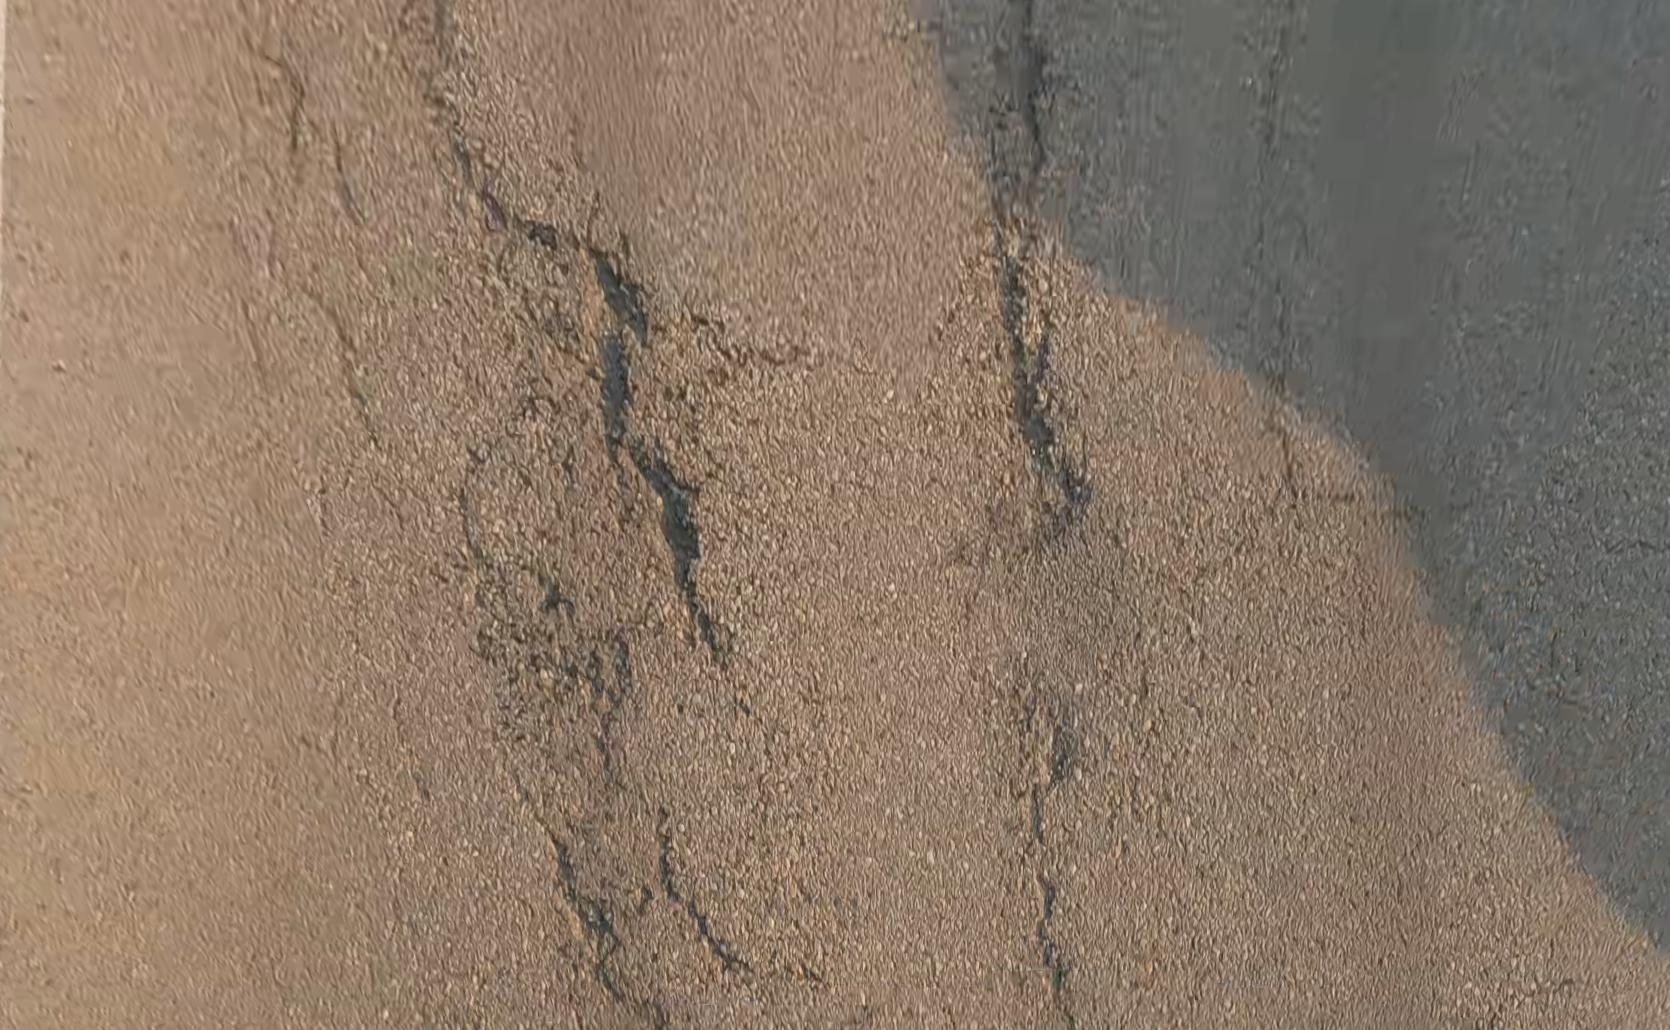pothole: (991, 7, 1096, 516), (575, 247, 705, 609), (543, 586, 625, 697)
